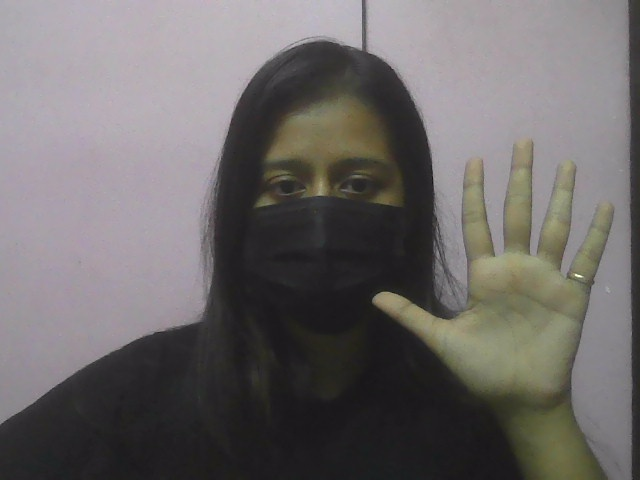Hello: (363, 133, 625, 418)
